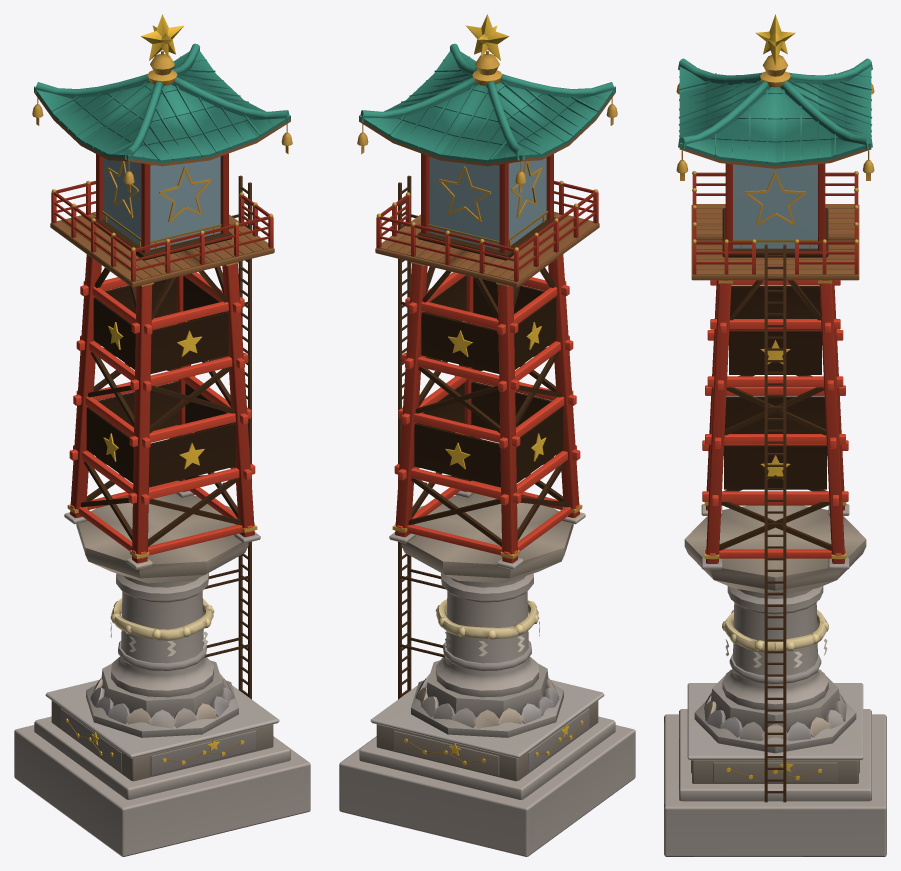
Rendered from star-lamp-grand.glb.
3 views of the same model, side by side, from view 1: azimuth 30°, elevation 25°; view 2: azimuth 150°, elevation 25°; view 3: azimuth 270°, elevation 25° (orthographic).
Visible parts, largest first — view 1: Star lamp grand Plaster, Star lamp grand Wood, Star lamp grand Vermilion, Star lamp grand Copper roof, Star lamp grand Lamp glass, Star lamp grand Brass, Star lamp grand Lamp star; view 2: Star lamp grand Plaster, Star lamp grand Wood, Star lamp grand Vermilion, Star lamp grand Copper roof, Star lamp grand Lamp glass, Star lamp grand Brass, Star lamp grand Lamp star; view 3: Star lamp grand Plaster, Star lamp grand Wood, Star lamp grand Vermilion, Star lamp grand Copper roof, Star lamp grand Lamp glass, Star lamp grand Brass, Star lamp grand Lamp star.
Boxes of the visible parts, box(x1,y1,x2,y2) form: Star lamp grand Plaster: box(14, 490, 310, 856); Star lamp grand Wood: box(34, 90, 290, 699); Star lamp grand Vermilion: box(51, 153, 273, 563); Star lamp grand Copper roof: box(34, 43, 290, 163); Star lamp grand Lamp glass: box(103, 156, 220, 249); Star lamp grand Brass: box(32, 50, 292, 762); Star lamp grand Lamp star: box(65, 14, 244, 764); Star lamp grand Plaster: box(339, 490, 635, 856); Star lamp grand Wood: box(359, 90, 615, 699); Star lamp grand Vermilion: box(376, 153, 598, 563); Star lamp grand Copper roof: box(359, 43, 615, 163); Star lamp grand Lamp glass: box(429, 156, 546, 249); Star lamp grand Brass: box(357, 50, 617, 762); Star lamp grand Lamp star: box(404, 14, 583, 765); Star lamp grand Plaster: box(664, 504, 886, 856); Star lamp grand Wood: box(679, 146, 871, 802); Star lamp grand Vermilion: box(692, 163, 858, 563); Star lamp grand Copper roof: box(678, 58, 872, 165); Star lamp grand Lamp glass: box(733, 164, 817, 248); Star lamp grand Brass: box(676, 55, 874, 777); Star lamp grand Lamp star: box(726, 14, 821, 780).
Bounding box in the file's own units: 5.2 × 20.52 × 5.2.
